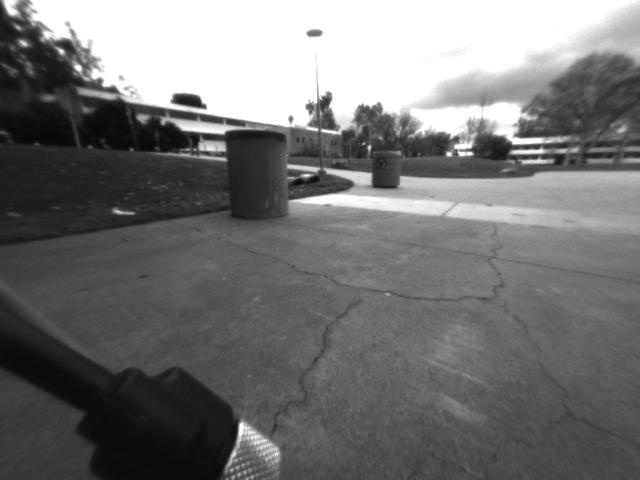trashcan: (213, 121, 302, 225), (366, 142, 406, 196)
